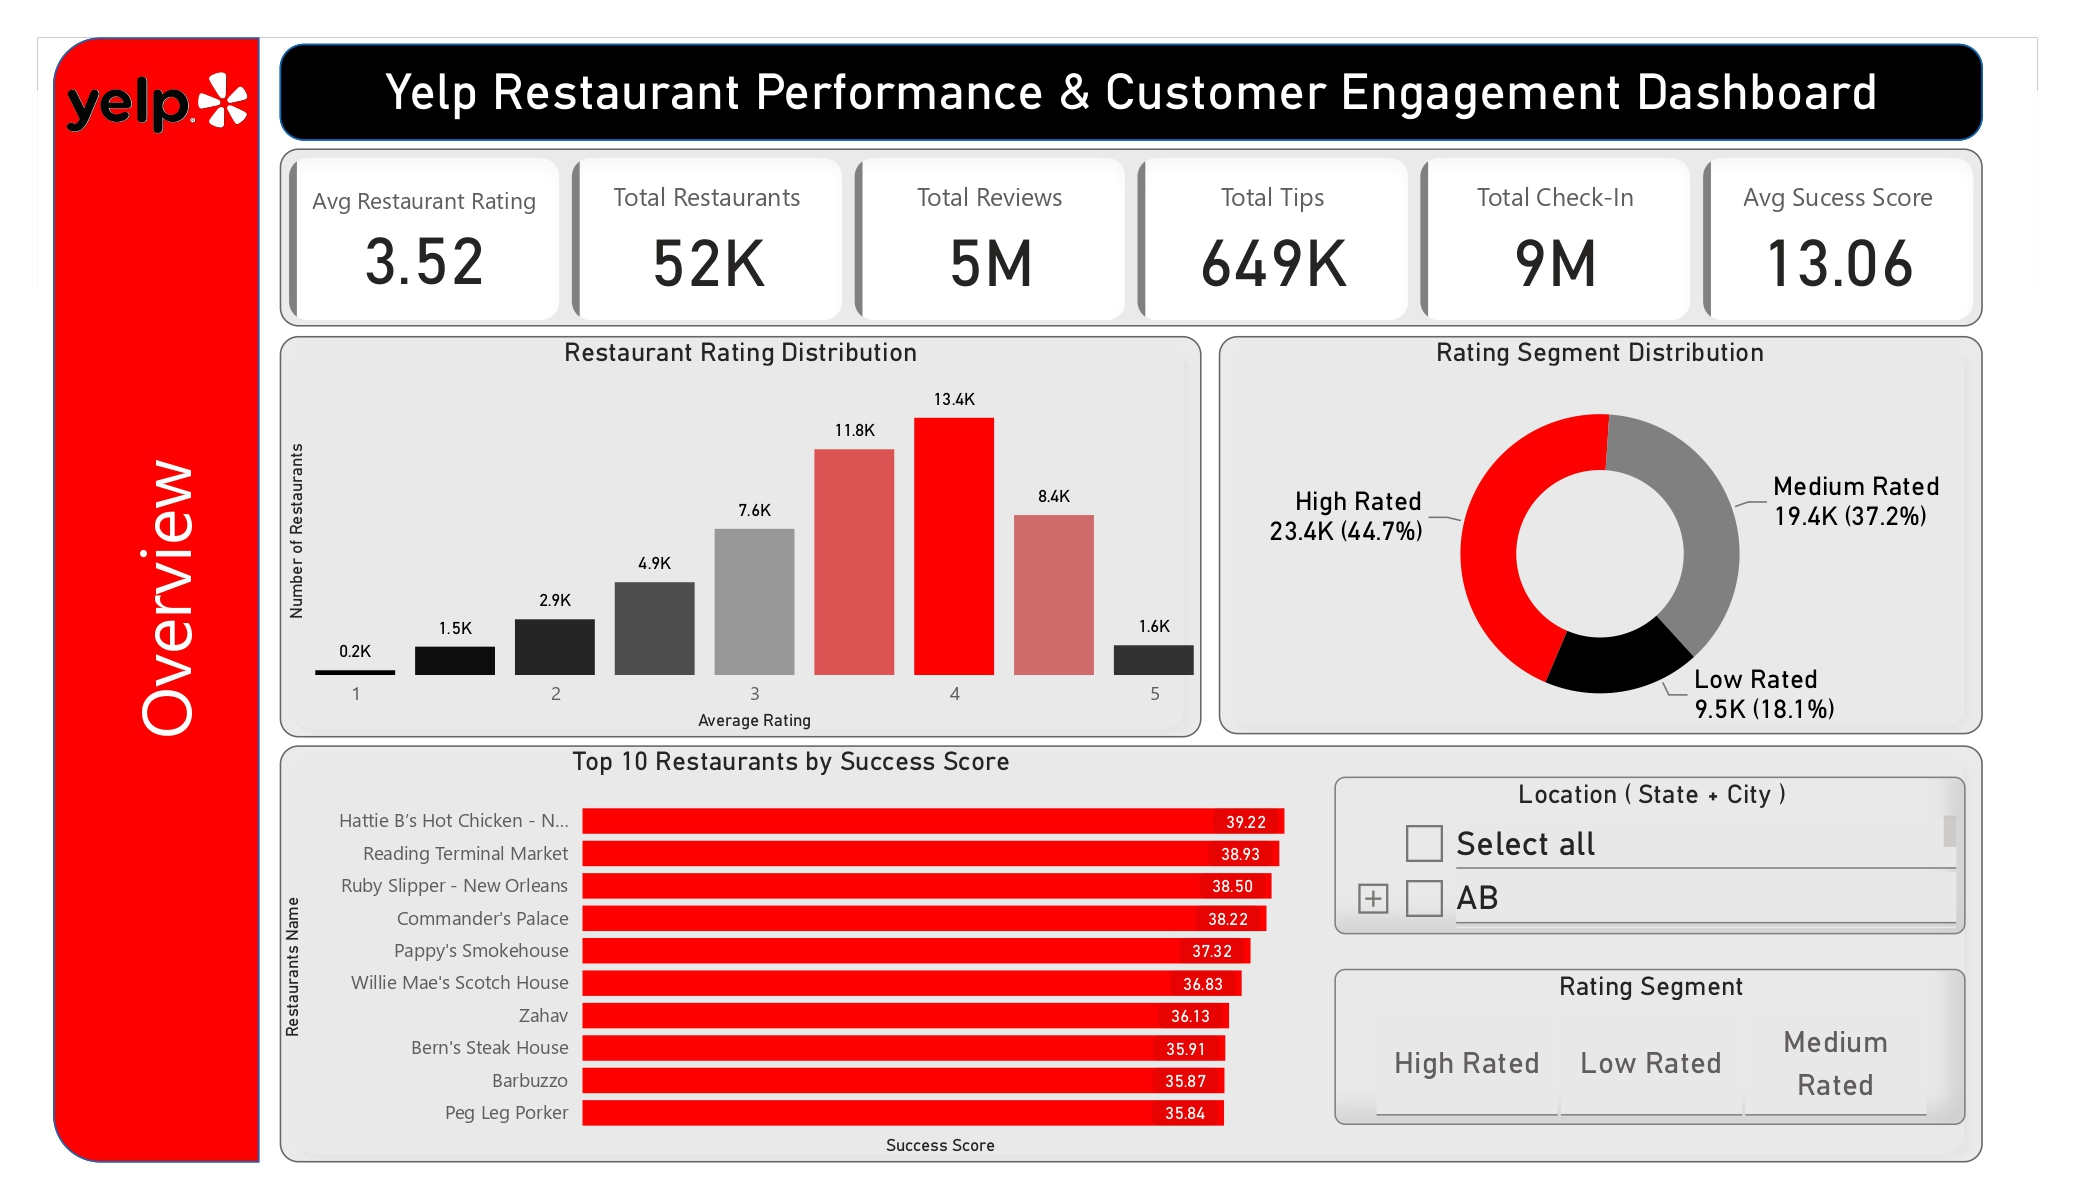

Layout of this report page (visuals, bound fields, positions):
{"tool":"powerbi","page":{"name":"Overview","canvas":[1280,720],"ordinal":0},"visuals":[{"type":"shape","box":[155.1,4.1,1089.5,61.7],"z":0},{"type":"shape","box":[155.2,452.5,1090,267.5],"z":0,"group":"g1"},{"type":"group","id":"g1","title":"Group 1","box":[10,0,1234.3,720],"z":1000},{"type":"shape","box":[10,0,132.1,720.2],"z":1000,"group":"g1"},{"type":"image","box":[0,0,155.3,85.6],"z":2000},{"type":"cardVisual","fields":{"Data":["Table.Average_rating","Table.Total Restaurants","Table.Total Reviews","Table.Total Tips","Table.Total CheckIn","Table.Avg Sucess Score"]},"box":[155.2,71.2,1090,113.8],"z":2000,"group":"g1"},{"type":"shape","box":[155.2,191.2,590,256.2],"z":3000,"group":"g1"},{"type":"slicer","title":"Location ( State + City )","fields":{"Values":["yelp_summary_dataset.state","yelp_summary_dataset.city"]},"box":[830,472.5,403.8,101.2],"z":3000},{"type":"lineClusteredColumnComboChart","title":"Restaurant Rating Distribution","fields":{"Category":["yelp_summary_dataset.avg_rating"],"Y":["CountNonNull(yelp_summary_dataset.business_id)"]},"box":[155.2,191.2,590,256.2],"z":4000,"group":"g1"},{"type":"slicer","title":"Rating Segment","fields":{"Values":["yelp_summary_dataset.rating_segment"]},"box":[830,596.2,403.8,100],"z":4000},{"type":"shape","box":[756.5,191.2,488.8,255],"z":5000,"group":"g1"},{"type":"donutChart","title":"Rating Segment Distribution","fields":{"Category":["yelp_summary_dataset.rating_segment"],"Y":["Table.Total Restaurants"]},"box":[756.5,191.2,488.8,255],"z":6000,"group":"g1"},{"type":"barChart","title":"Top 10 Restaurants by Success Score","fields":{"Category":["yelp_summary_dataset.name"],"Y":["Table.Avg Sucess Score"]},"box":[153.1,452.5,658.8,267.5],"z":7000,"group":"g1"}]}

Visuals, with their boxes on the page's 1280x720 design canvas (x1, y1, x2, y2). These are canvas units, not pixel positions in the 2075x1200 screenshot, which may show the page scaled, cropped or inside an application window:
shape: bbox=(155, 4, 1245, 66)
shape: bbox=(155, 452, 1245, 720)
"Group 1" group: bbox=(10, 0, 1244, 720)
shape: bbox=(10, 0, 142, 720)
image: bbox=(0, 0, 155, 86)
cardVisual - Table.Average_rating x Table.Total Restaurants: bbox=(155, 71, 1245, 185)
shape: bbox=(155, 191, 745, 447)
"Location ( State + City )" slicer: bbox=(830, 472, 1234, 574)
"Restaurant Rating Distribution" lineClusteredColumnComboChart: bbox=(155, 191, 745, 447)
"Rating Segment" slicer: bbox=(830, 596, 1234, 696)
shape: bbox=(756, 191, 1245, 446)
"Rating Segment Distribution" donutChart: bbox=(756, 191, 1245, 446)
"Top 10 Restaurants by Success Score" barChart: bbox=(153, 452, 812, 720)
